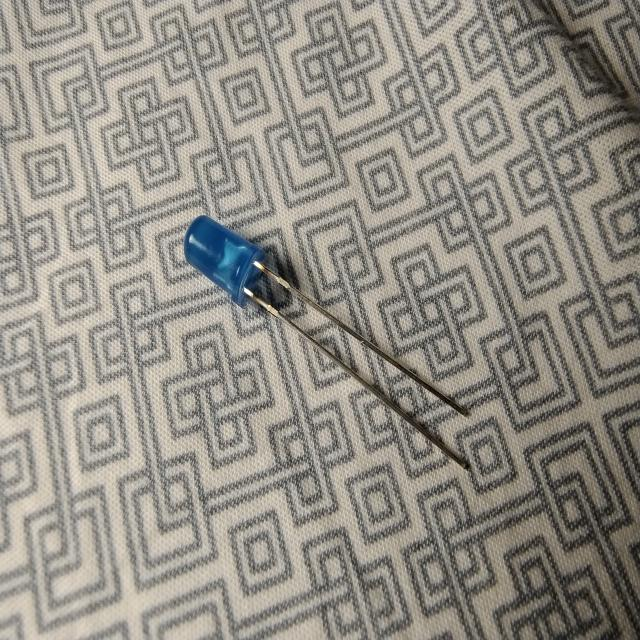blue_led: (182, 212, 472, 471)
